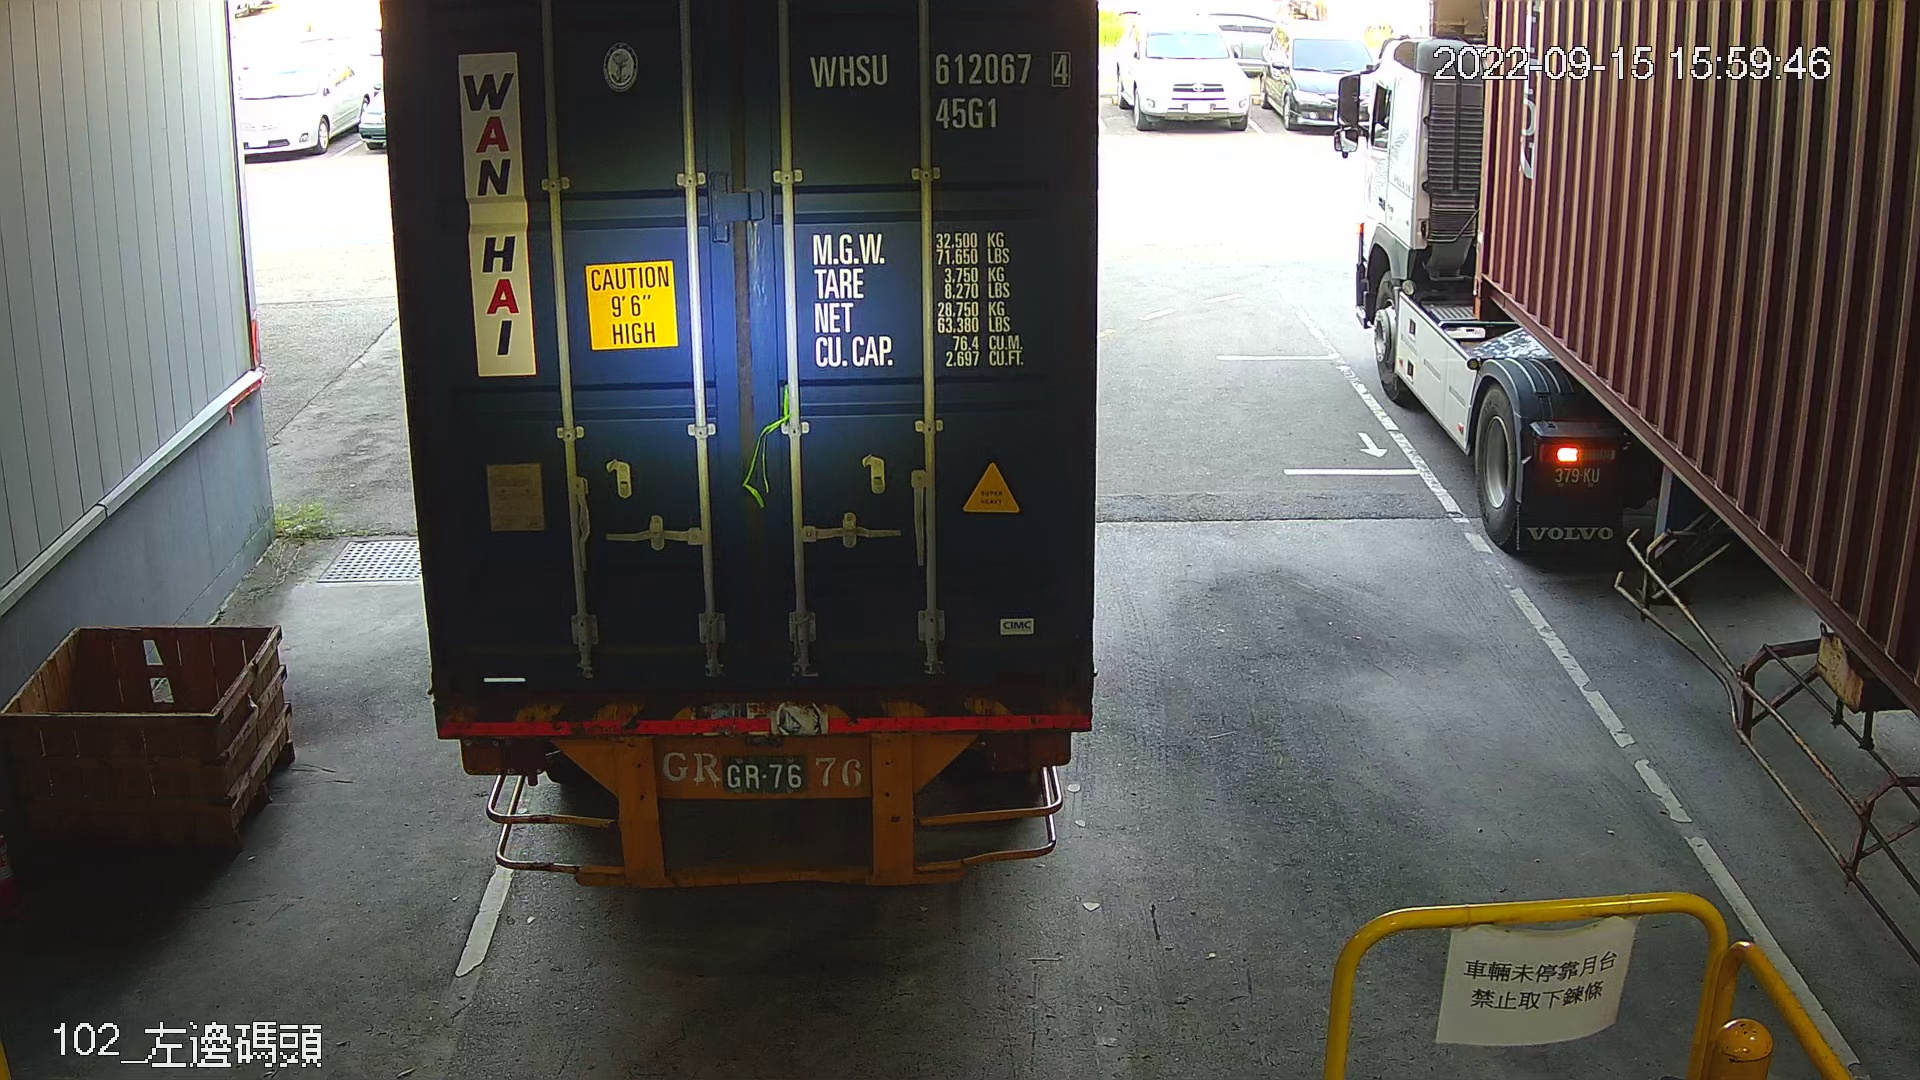container: (798, 41, 1081, 138)
